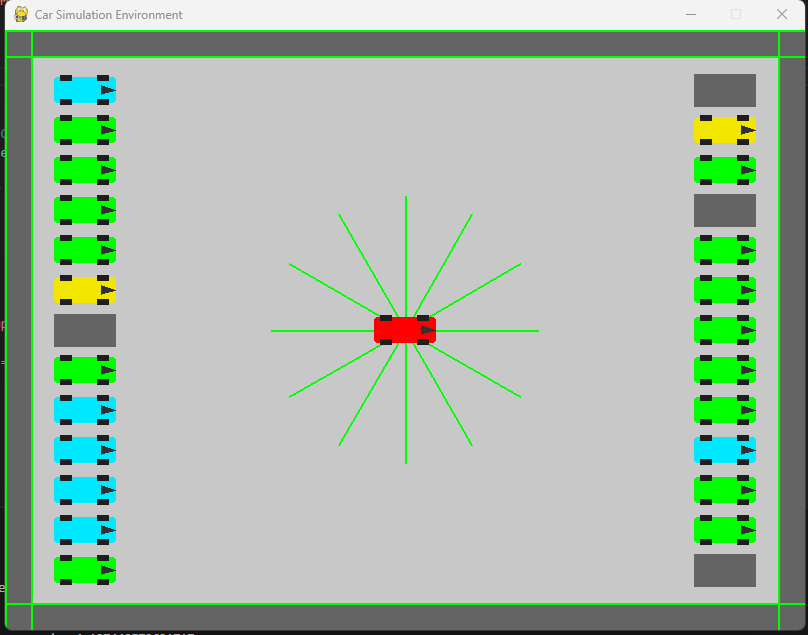ControlledCar: (365, 309, 445, 351)
ParkedCar: (52, 66, 119, 112), (685, 109, 757, 148), (48, 432, 118, 471), (693, 232, 762, 270), (49, 352, 121, 387), (50, 191, 119, 227), (690, 273, 759, 309), (692, 351, 757, 389), (688, 313, 758, 348), (693, 152, 761, 187), (689, 391, 757, 426), (693, 471, 757, 508), (50, 153, 119, 187), (51, 391, 120, 425), (52, 272, 120, 306), (689, 434, 757, 468), (50, 514, 118, 546), (54, 552, 118, 586), (694, 514, 759, 547), (52, 234, 119, 266), (53, 113, 116, 146), (53, 476, 116, 509)
ParkingSpot: (683, 66, 762, 112), (689, 547, 763, 590), (688, 187, 765, 228), (50, 313, 121, 352)
